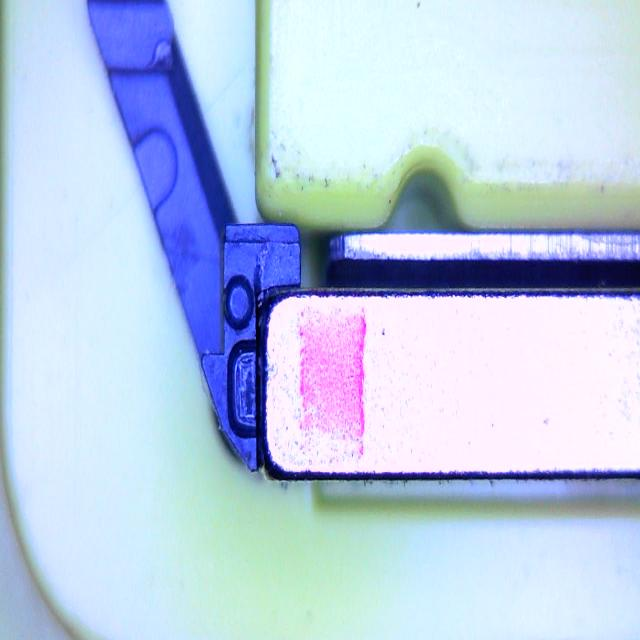lacking: (227, 338, 261, 439)
